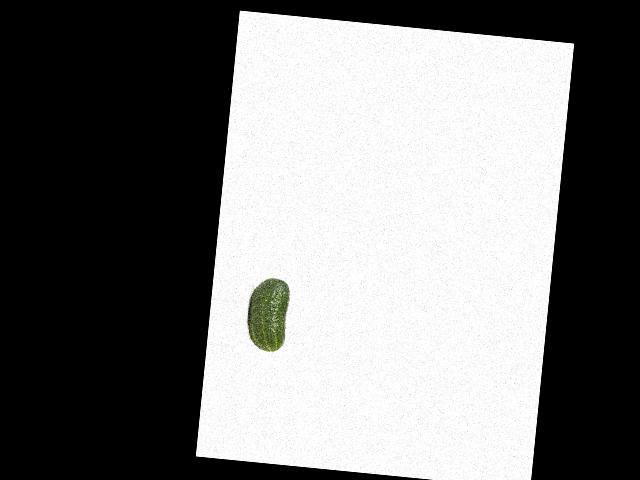cucumber: (244, 275, 290, 352)
